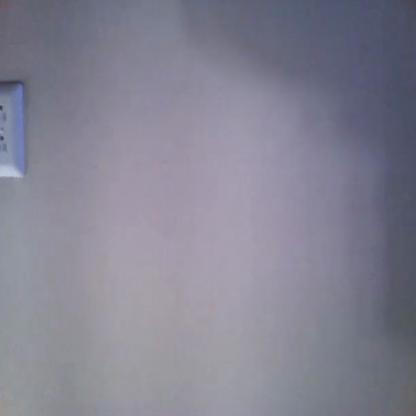OUTLET: (0, 78, 27, 180)
